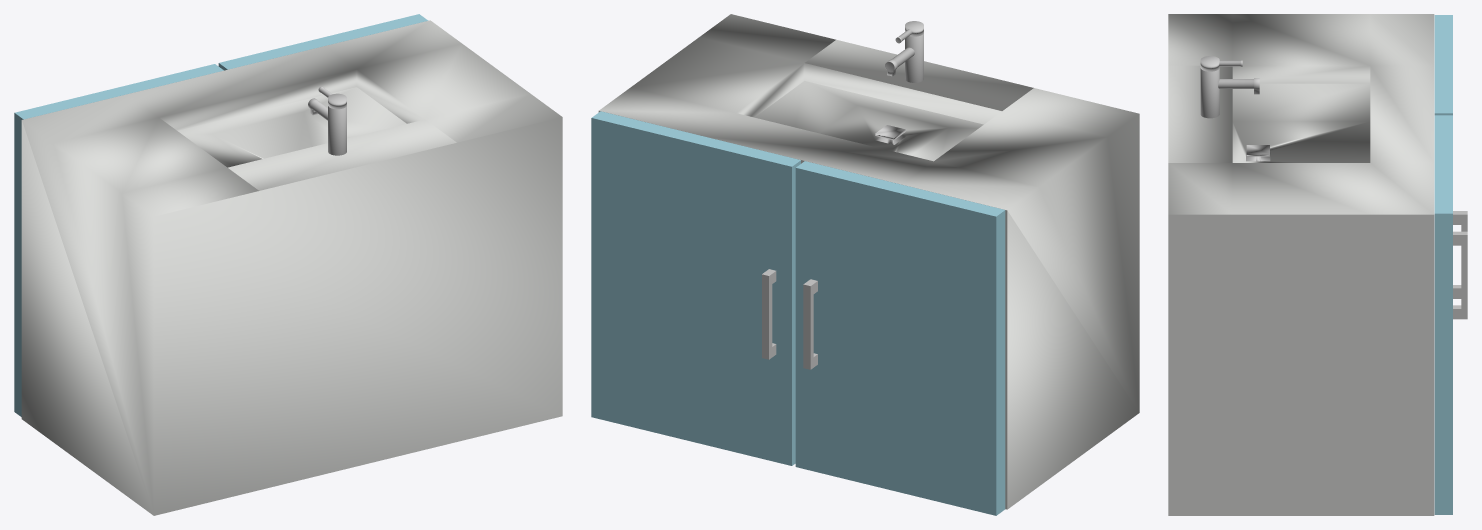
Rendered from Counter_wSink 1.fbx.
3 renders of one model, left to right at view 1: azimuth 30°, elevation 25°; view 2: azimuth 150°, elevation 25°; view 3: azimuth 270°, elevation 25°, orthographic.
Parts seen in each view (by area): view 1: CounterWSink, CounterWSinkDOOR.001, CounterWSinkDOOR, WaterFaucetBottom; view 2: CounterWSink, CounterWSinkDOOR.001, CounterWSinkDOOR, CounterWSinkHandle.001, CounterWSinkHandle, WaterFaucetBottom; view 3: CounterWSink, CounterWSinkDOOR, CounterWSinkDOOR.001, WaterFaucetBottom, CounterWSinkHandle, WaterFaucetTap, CounterWSinkHandle.001.
Boxes of the visible parts, left/top/right/bottom form: CounterWSink: left=21, top=20, right=562, bottom=515; CounterWSinkDOOR.001: left=14, top=64, right=223, bottom=416; CounterWSinkDOOR: left=218, top=14, right=428, bottom=70; WaterFaucetBottom: left=328, top=106, right=346, bottom=155; CounterWSink: left=598, top=14, right=1139, bottom=509; CounterWSinkDOOR.001: left=795, top=161, right=1005, bottom=515; CounterWSinkDOOR: left=591, top=111, right=800, bottom=465; CounterWSinkHandle.001: left=803, top=279, right=817, bottom=369; CounterWSinkHandle: left=762, top=269, right=776, bottom=359; WaterFaucetBottom: left=905, top=33, right=923, bottom=82; CounterWSink: left=1168, top=14, right=1434, bottom=515; CounterWSinkDOOR: left=1434, top=115, right=1452, bottom=514; CounterWSinkDOOR.001: left=1434, top=15, right=1452, bottom=115; WaterFaucetBottom: left=1200, top=68, right=1219, bottom=118; CounterWSinkHandle: left=1453, top=231, right=1467, bottom=319; WaterFaucetTap: left=1218, top=78, right=1259, bottom=94; CounterWSinkHandle.001: left=1453, top=211, right=1467, bottom=298.
Bounding box in the file's own units: 100 × 82.62 × 62.97.
